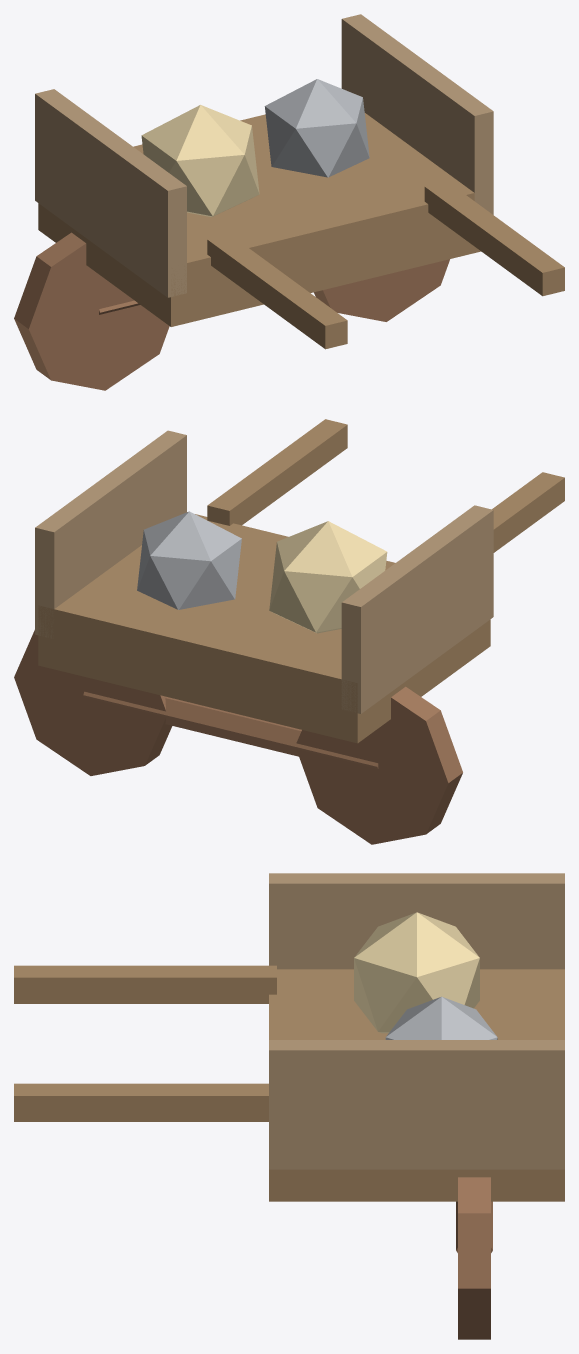
File: handcart.glb
3 views of the same model, one above another, from view 1: azimuth 30°, elevation 25°; view 2: azimuth 150°, elevation 25°; view 3: azimuth 270°, elevation 25° (orthographic). The views are drawn at different scales.
Parts seen in each view (by area): view 1: tray, wall_0, wheel_0.001, wall_1, load_a, load_b, handle_1, handle_0, wheel_1.001; view 2: tray, wall_0, wheel_0.001, wall_1, wheel_1.001, load_a, load_b, handle_1, axle.003, handle_0; view 3: wall_1, wall_0, tray, load_a, handle_0, handle_1, wheel_1.001, load_b.
Boxes of the visible parts, x1,y1,x2,y2 form: tray: (38, 113, 480, 326); wall_0: (35, 89, 186, 297); wheel_0.001: (14, 232, 169, 390); wall_1: (341, 14, 493, 214); load_a: (141, 105, 259, 217); load_b: (264, 79, 369, 177); handle_1: (424, 181, 564, 296); handle_0: (207, 234, 347, 349); wheel_1.001: (314, 259, 449, 321); tray: (38, 514, 490, 743); wall_0: (341, 505, 493, 713); wheel_0.001: (296, 686, 462, 844); wall_1: (35, 430, 186, 638); wheel_1.001: (14, 630, 172, 775); load_a: (269, 521, 387, 633); load_b: (137, 511, 241, 609); handle_1: (207, 419, 347, 525); axle.003: (83, 691, 378, 768); handle_0: (492, 472, 564, 552); wall_1: (269, 1040, 564, 1169); wall_0: (269, 873, 564, 969); tray: (269, 969, 564, 1201); load_a: (354, 912, 479, 1033); handle_0: (14, 965, 276, 1003); handle_1: (14, 1083, 268, 1121); wheel_1.001: (458, 1177, 490, 1339); load_b: (385, 996, 497, 1039).
Size of the model in its own units: 1.36 by 0.84 by 1.34.
